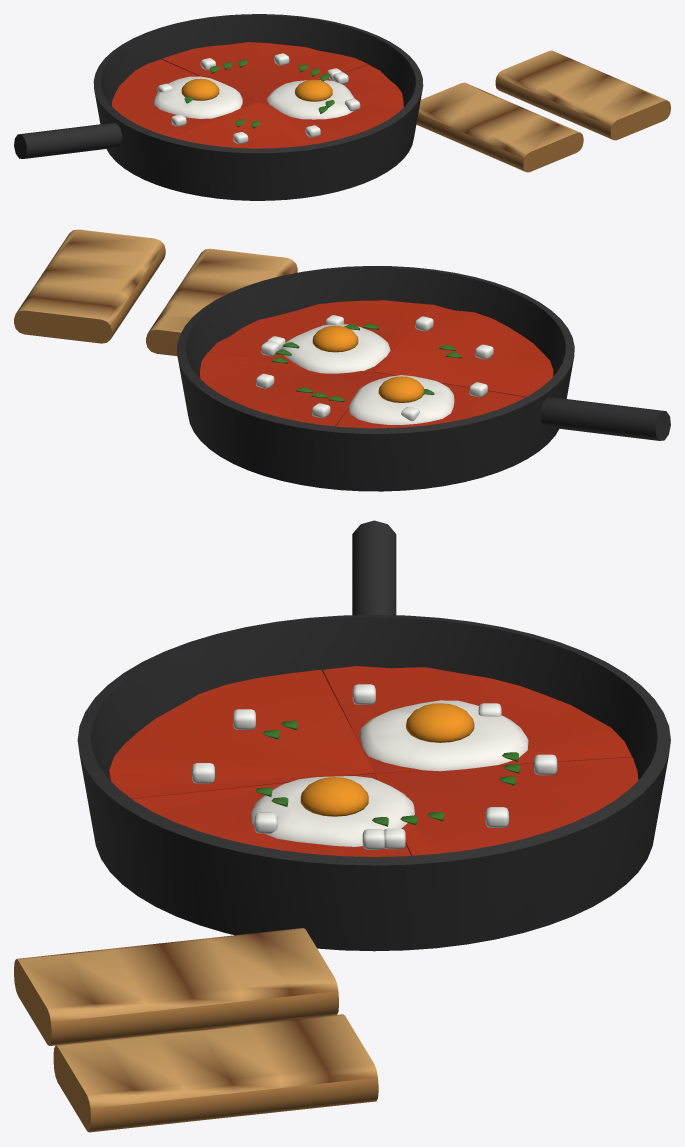
File: dish-shakshuka-lod0.glb
The picture shows the model from 3 angles, top to bottom: view 1: azimuth 30°, elevation 25°; view 2: azimuth 150°, elevation 25°; view 3: azimuth 270°, elevation 25°; orthographic projection. The views are drawn at different scales.
Parts seen in each view (by area): view 1: shakshuka.lod0__table cast iron, shakshuka.lod0__food glaze, shakshuka.lod0__food; view 2: shakshuka.lod0__table cast iron, shakshuka.lod0__food glaze, shakshuka.lod0__food; view 3: shakshuka.lod0__table cast iron, shakshuka.lod0__food glaze, shakshuka.lod0__food.
Part boxes in pixels (x1,y1,x2,y2): shakshuka.lod0__table cast iron: [14, 14, 423, 200]; shakshuka.lod0__food glaze: [112, 42, 403, 148]; shakshuka.lod0__food: [157, 50, 670, 172]; shakshuka.lod0__table cast iron: [177, 266, 670, 491]; shakshuka.lod0__food glaze: [199, 300, 553, 428]; shakshuka.lod0__food: [14, 229, 493, 421]; shakshuka.lod0__table cast iron: [77, 520, 670, 951]; shakshuka.lod0__food glaze: [109, 666, 638, 856]; shakshuka.lod0__food: [14, 684, 557, 1132].
Size of the model in its own units: 0.3612 by 0.039 by 0.1993.
